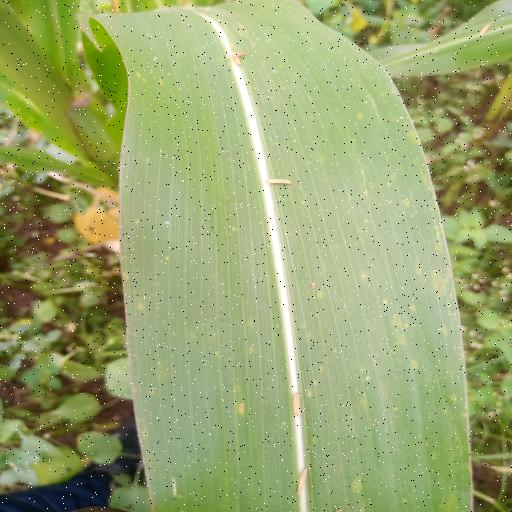Corn_Chlorotic_Leaf_Spot: (97, 0, 488, 512)
